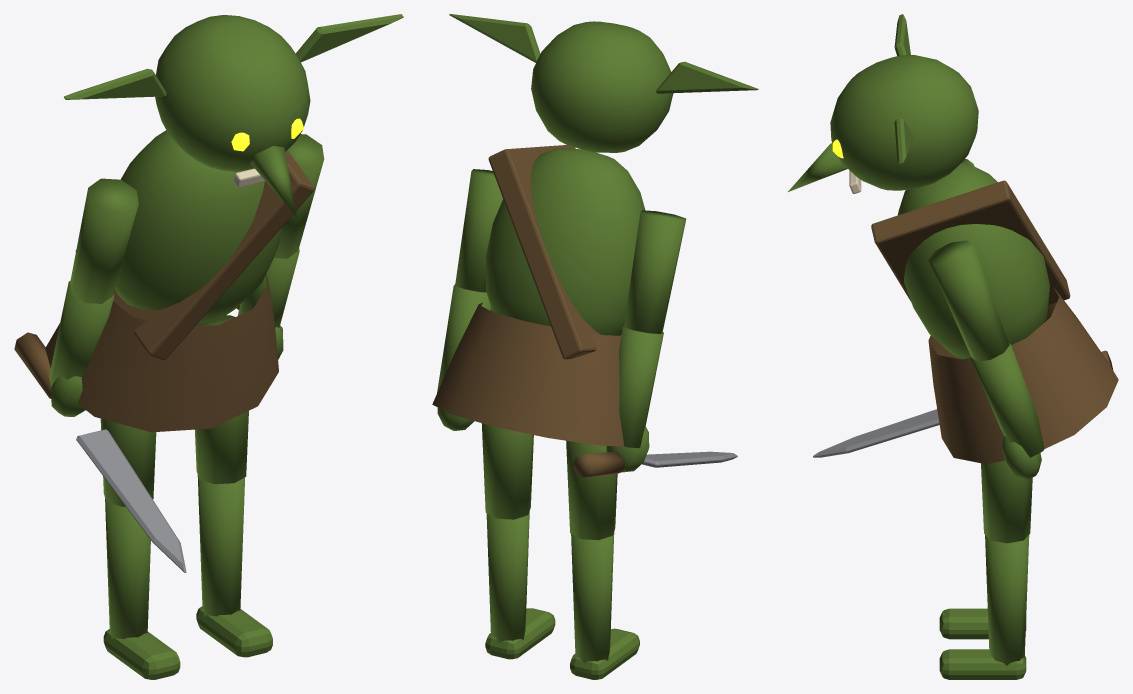
File: goblin.glb
3 views of the same model, side by side, from view 1: azimuth 30°, elevation 25°; view 2: azimuth 150°, elevation 25°; view 3: azimuth 270°, elevation 25° (orthographic). The views are drawn at different scales.
Parts seen in each view (by area): view 1: loincloth, belly, head.001, strap, arm.001, shin, shin.001, blade, forearm.001, thigh, foot, foot.001 (+8 smaller); view 2: belly, loincloth, head.001, strap, arm.001, shin.001, shin, thigh, forearm.001, thigh.001, arm, forearm (+7 smaller); view 3: head.001, loincloth, belly, strap, arm, shin, forearm, thigh, foot, blade, foot.001, hand (+3 smaller).
Boxes of the visible parts, x1,y1,x2,y2 form: loincloth: (45, 274, 278, 432); belly: (115, 130, 282, 323); head.001: (155, 15, 310, 171); strap: (75, 150, 314, 360); arm.001: (70, 178, 138, 303); shin: (197, 475, 244, 616); shin.001: (105, 498, 150, 639); blade: (76, 429, 186, 572); forearm.001: (49, 280, 113, 386); thigh: (195, 315, 248, 484); foot: (196, 606, 272, 657); foot.001: (103, 629, 180, 679); belly: (486, 148, 645, 335); loincloth: (432, 302, 624, 446); head.001: (531, 21, 673, 152); strap: (488, 145, 621, 359); arm.001: (624, 210, 686, 333); shin.001: (571, 532, 614, 663); shin: (486, 512, 529, 642); thigh: (481, 423, 533, 519); forearm.001: (619, 325, 663, 448); thigh.001: (566, 440, 617, 540); arm: (455, 169, 502, 292); forearm: (437, 284, 491, 392); head.001: (830, 55, 978, 190); loincloth: (928, 287, 1118, 464); belly: (897, 162, 1049, 358); strap: (871, 180, 1070, 305); arm: (928, 240, 1009, 361); shin: (985, 535, 1029, 665); forearm: (970, 343, 1044, 457); thigh: (981, 461, 1032, 543); foot: (939, 649, 1026, 679); blade: (813, 409, 939, 457); foot.001: (939, 608, 1026, 639); hand: (1001, 436, 1041, 479).
Bounding box in the file's own units: 0.7284 × 1.36 × 0.688.
